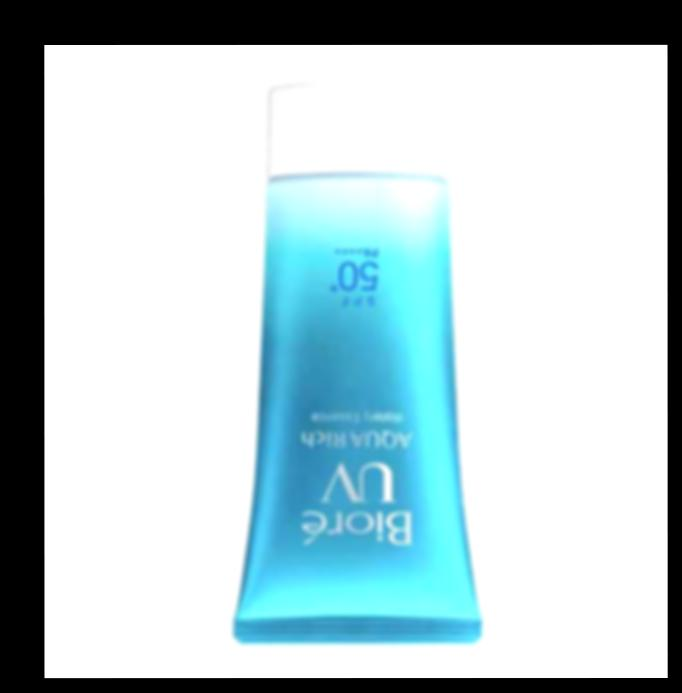cosmetic: (231, 81, 484, 646)
